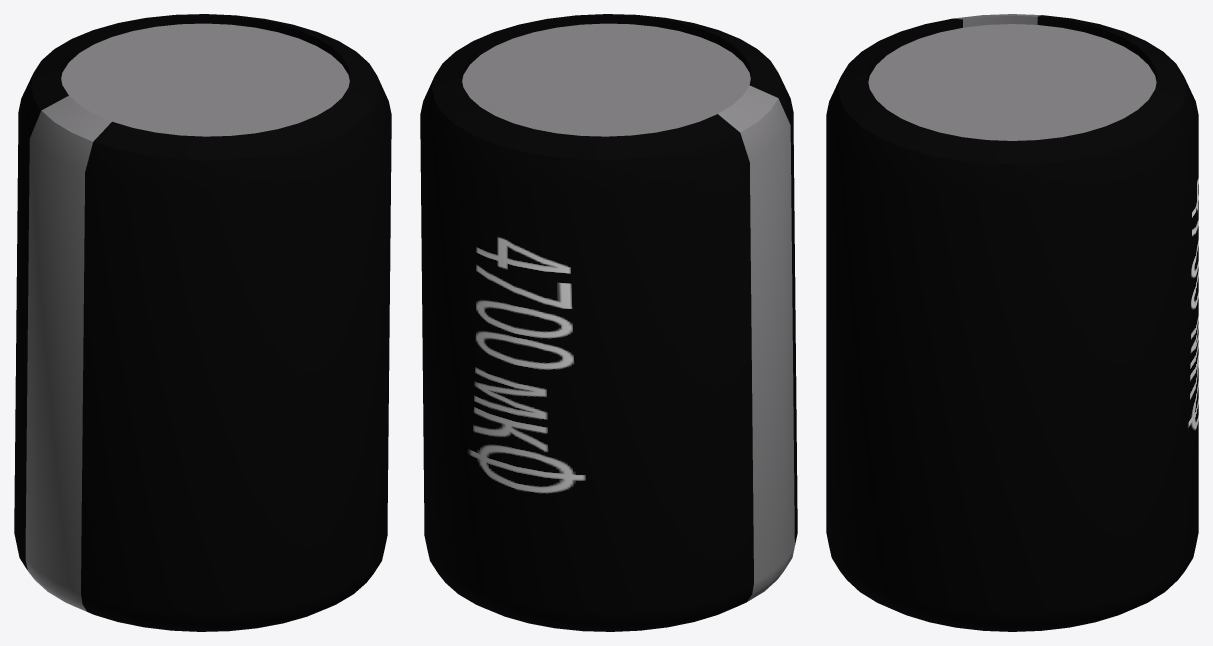
Rendered from Capatitor.gltf.
3 renders of one model, left to right at view 1: azimuth 30°, elevation 25°; view 2: azimuth 150°, elevation 25°; view 3: azimuth 270°, elevation 25°, orthographic.
Visible parts, largest first — view 1: Cylinder.005; view 2: Cylinder.005; view 3: Cylinder.005.
Part boxes in pixels (x1,y1,x2,y2): Cylinder.005: (14,14,391,631); Cylinder.005: (420,14,797,631); Cylinder.005: (826,14,1198,631).
Size of the model in its own units: 1.04 by 1.55 by 1.02.
Materials: 2 (1 with a texture image).
